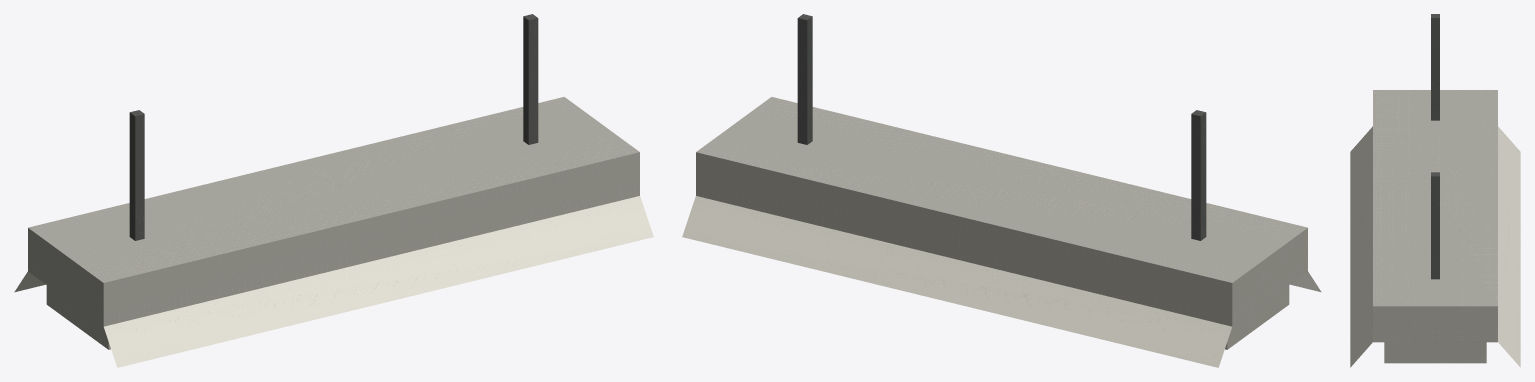
Rendered from fluorescent_fixture_short.glb.
3 renders of one model, left to right at view 1: azimuth 30°, elevation 25°; view 2: azimuth 150°, elevation 25°; view 3: azimuth 270°, elevation 25°, orthographic. The views are drawn at different scales.
Visible parts, largest first — view 1: FluorescentFixtureShort; view 2: FluorescentFixtureShort; view 3: FluorescentFixtureShort.
Boxes of the visible parts, x1,y1,x2,y2 form: FluorescentFixtureShort: (14,14,653,367); FluorescentFixtureShort: (682,14,1321,367); FluorescentFixtureShort: (1350,14,1520,367).
Size of the model in its own units: 0.9 by 0.32 by 0.3.
2 materials, 1 textured.
